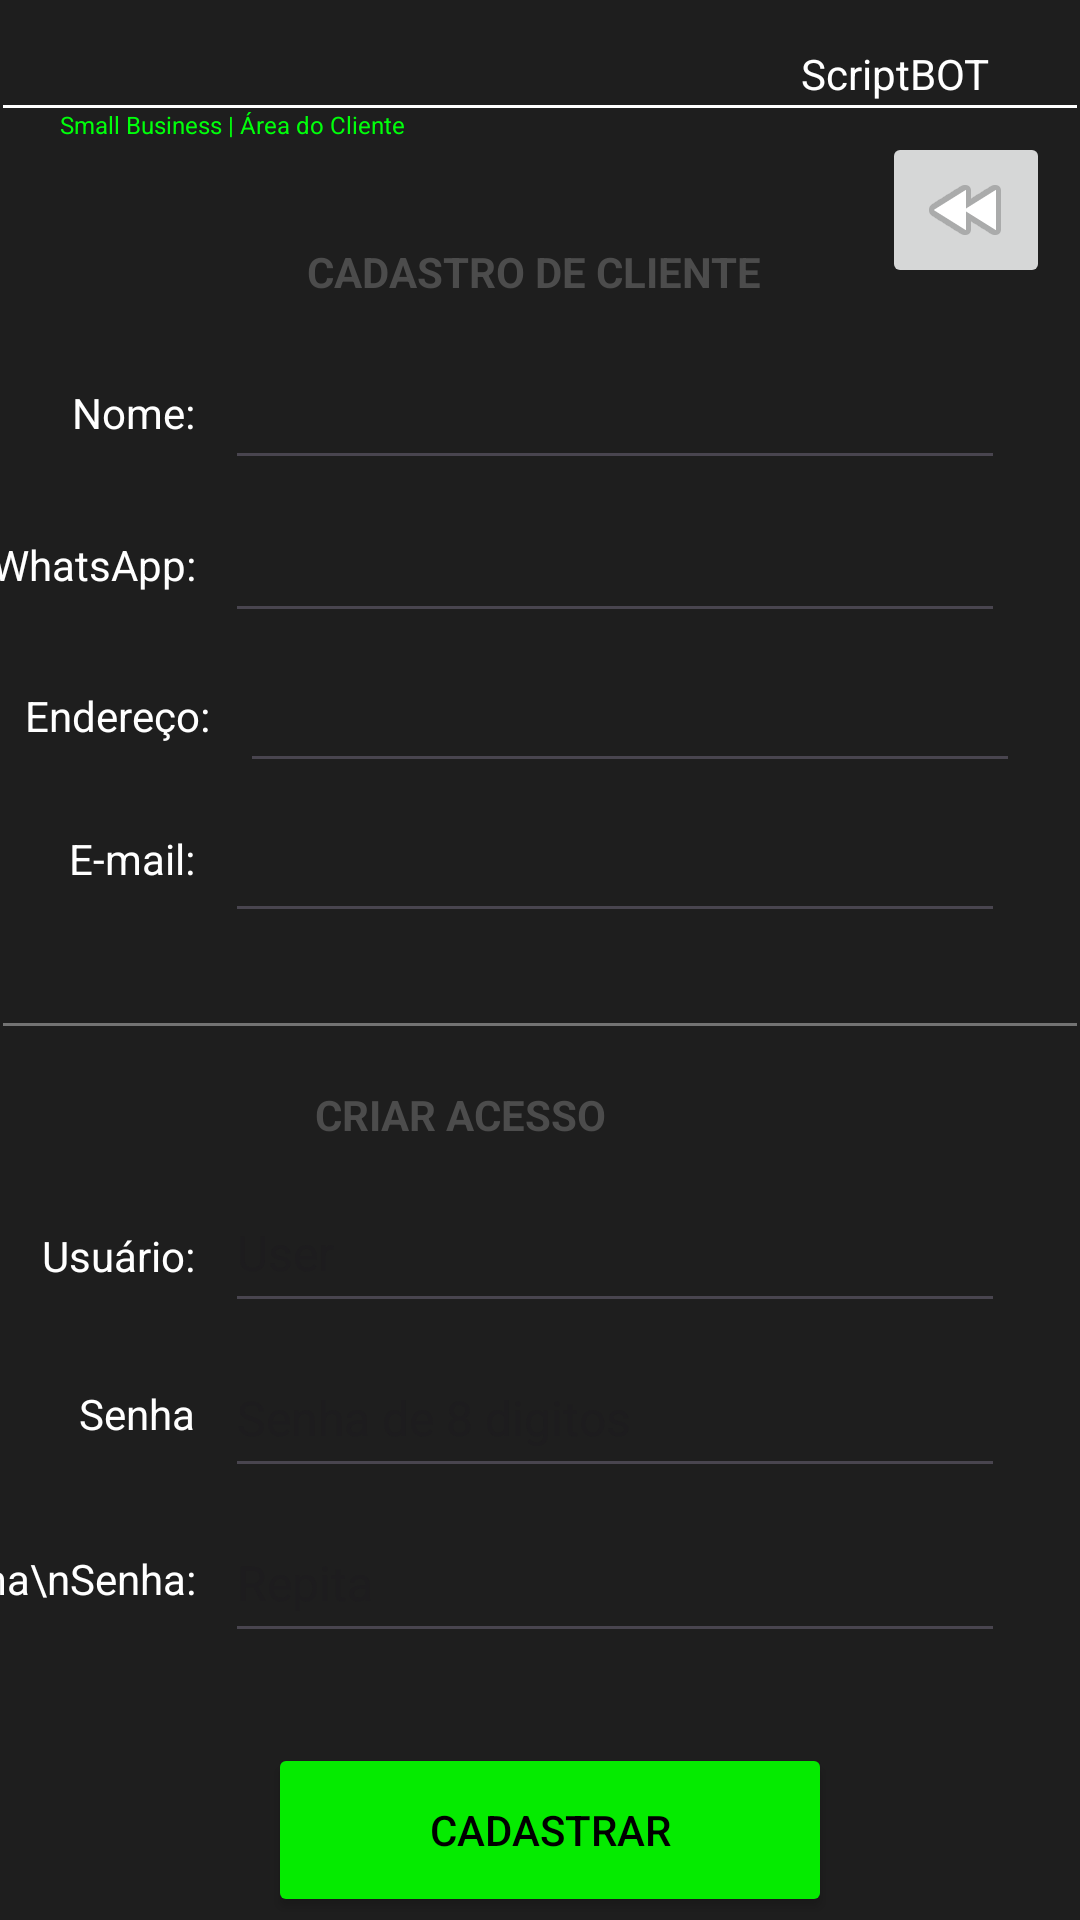

Screen size 1080 x 1920. Icon name, then its center in pixels as (x=x, y=y):
rew: (x=966, y=210)
